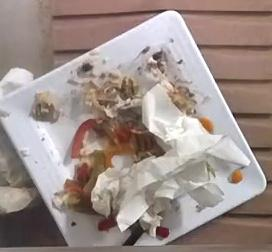peppers: (64, 118, 130, 202)
